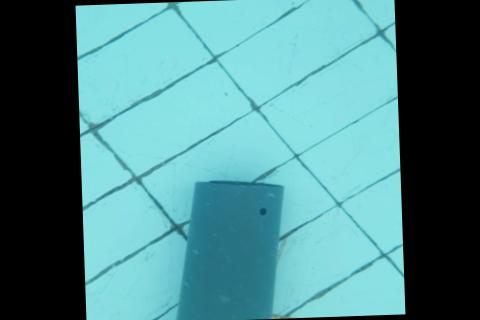kebocoran: (258, 208, 266, 216)
